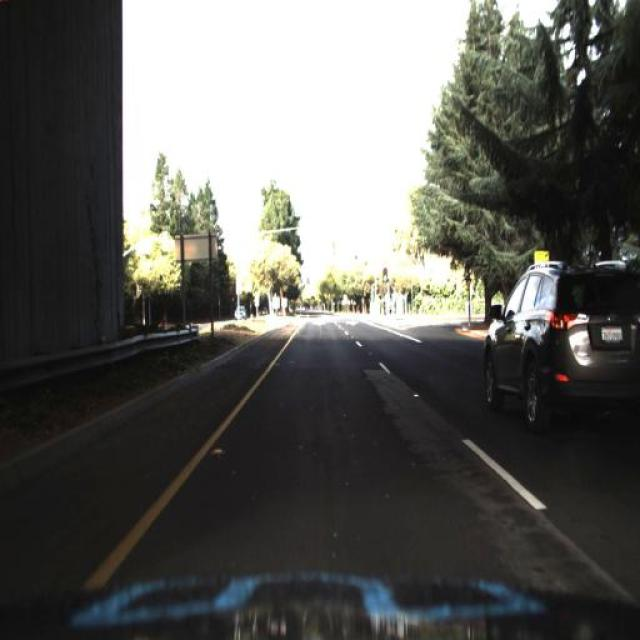car: (480, 254, 640, 438), (233, 301, 248, 323)
trafficLight-GreenLeft: (379, 262, 388, 288)
